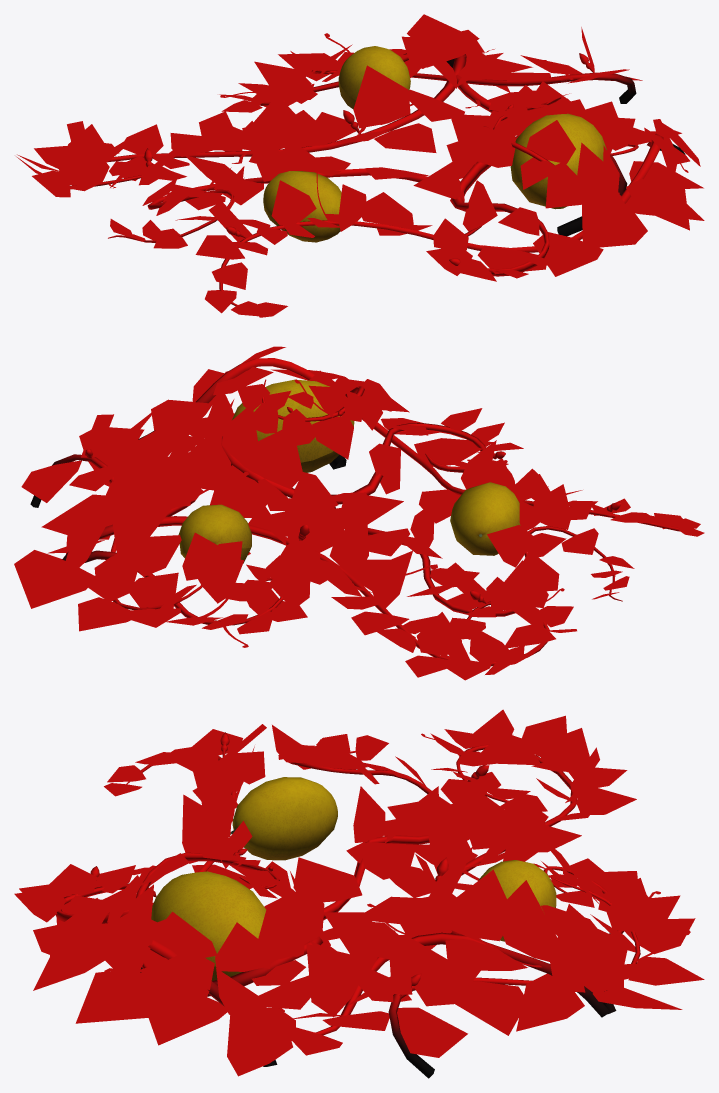
File: SM_Farm_MelonGrown_01.fbx
3 renders of one model, top to bottom at view 1: azimuth 30°, elevation 25°; view 2: azimuth 150°, elevation 25°; view 3: azimuth 270°, elevation 25°, orthographic. The views are drawn at different scales.
Visible parts, largest first — view 1: SM_Farm_MelonGrown_01_LOD0; view 2: SM_Farm_MelonGrown_01_LOD0; view 3: SM_Farm_MelonGrown_01_LOD0.
Boxes of the visible parts, x1,y1,x2,y2 form: SM_Farm_MelonGrown_01_LOD0: (16,14,704,317); SM_Farm_MelonGrown_01_LOD0: (14,346,704,680); SM_Farm_MelonGrown_01_LOD0: (14,709,704,1078).
Bounding box in the file's own units: 235 × 44.15 × 211.
